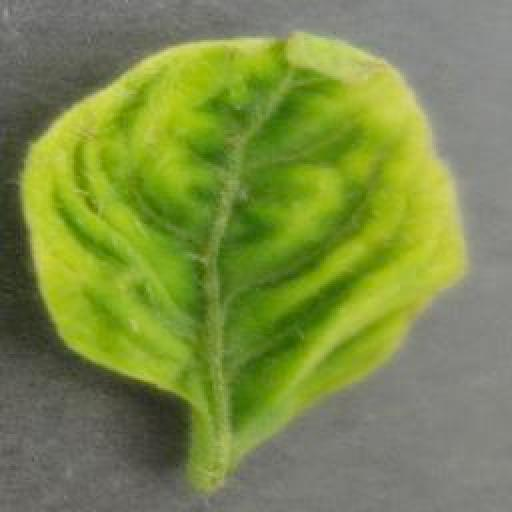disease_tomato: (18, 34, 466, 486)
